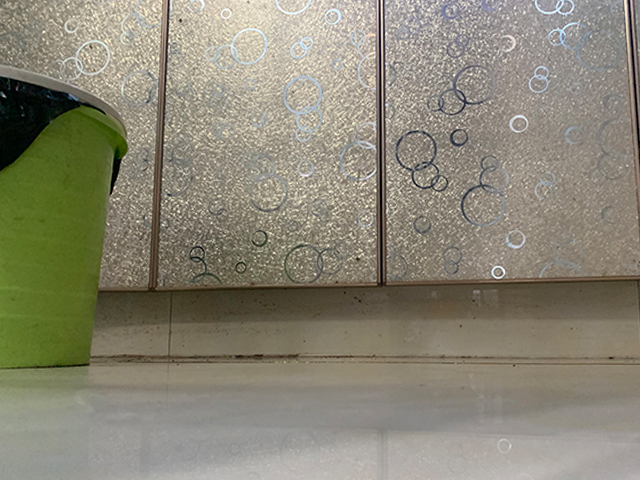cabinet: (1, 1, 640, 364)
trashcan: (1, 65, 128, 371)
